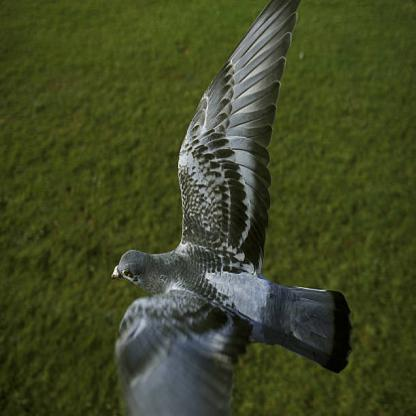Flying Rat: (111, 1, 351, 416)
